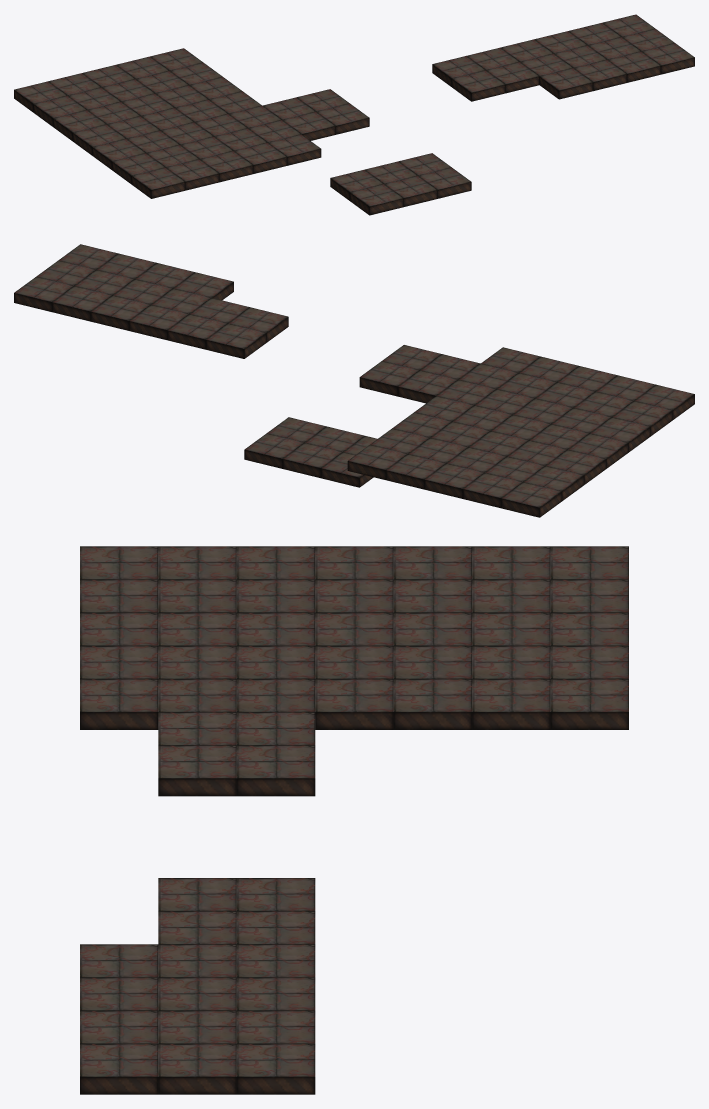
The model's file is TermProject_Tut_floor.fbx.
3 views of the same model, one above another, from view 1: azimuth 30°, elevation 25°; view 2: azimuth 150°, elevation 25°; view 3: azimuth 270°, elevation 25° (orthographic). The views are drawn at different scales.
Parts seen in each view (by area): view 1: Floor.662; view 2: Floor.662; view 3: Floor.662.
Boxes of the visible parts, x1,y1,x2,y2 form: Floor.662: [14, 14, 694, 215]; Floor.662: [14, 244, 694, 517]; Floor.662: [80, 546, 628, 1094].
Bounding box in the file's own units: 6400 × 1100 × 2800.
